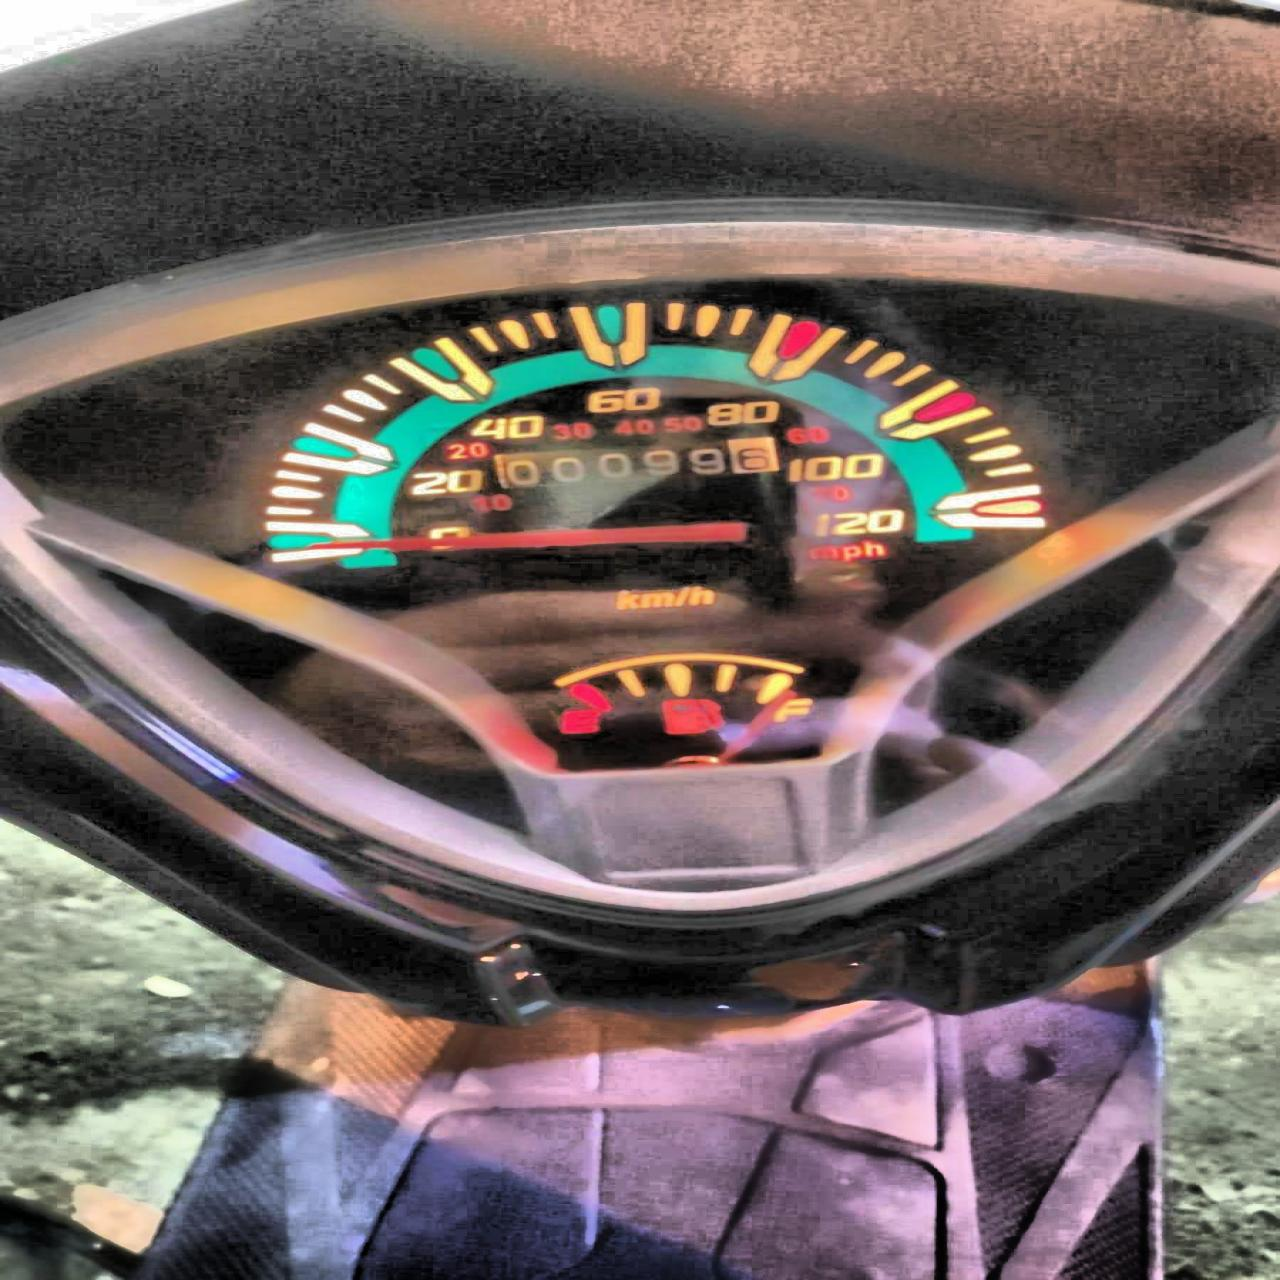0: (594, 451, 634, 477), (548, 456, 587, 482), (504, 459, 540, 484)
6: (733, 446, 773, 471)
9: (642, 447, 681, 478), (688, 446, 726, 474)
odometer: (490, 436, 783, 488)
